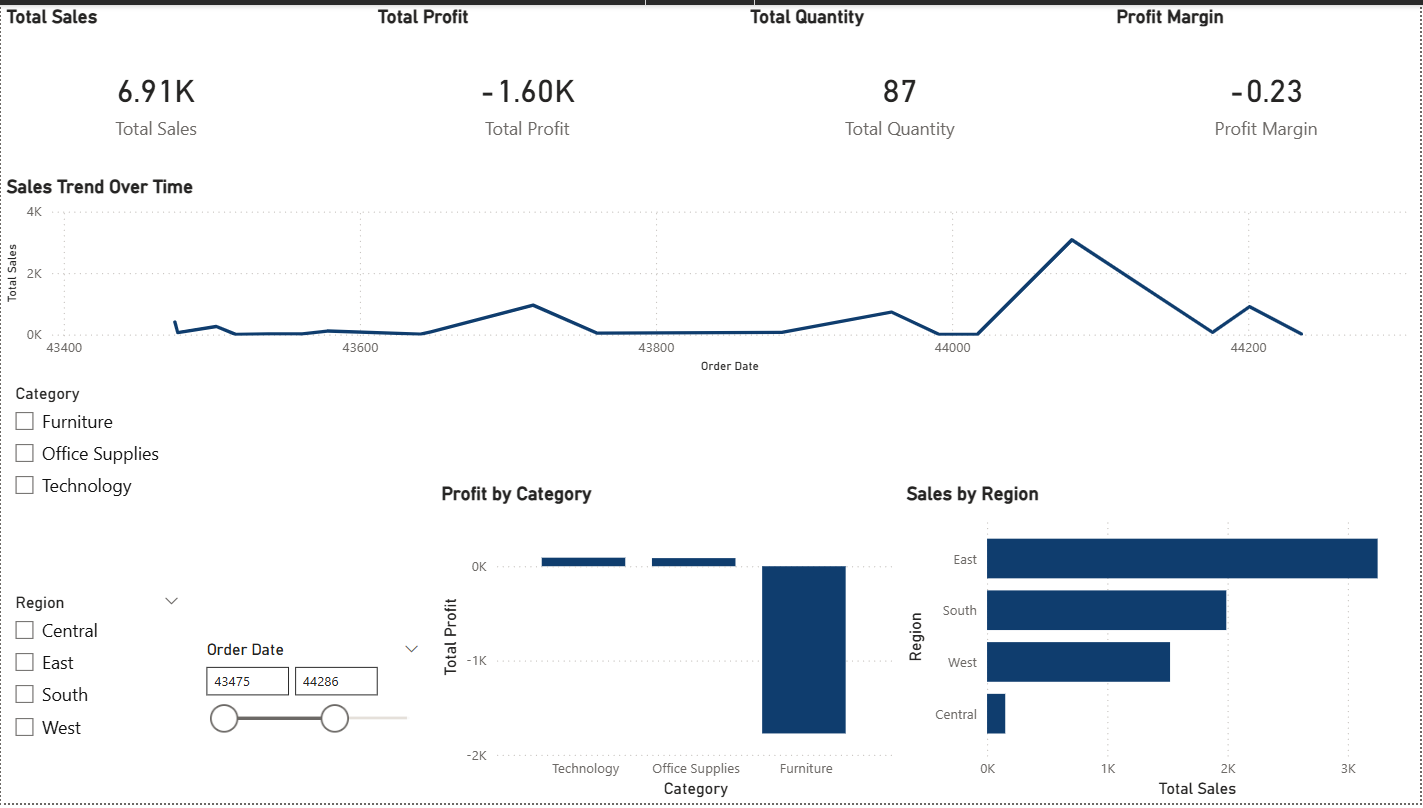

The dashboard page shown, as its layout file describes it:
{"tool":"powerbi","page":{"name":"Page 1","canvas":[1280,720],"ordinal":0},"visuals":[{"type":"card","title":"Total Sales","fields":{"Values":["Sheet1.Total Sales"]},"box":[0,0,279.9,153.7],"z":0},{"type":"card","title":"Total Quantity","fields":{"Values":["Sheet1.Total Quantity"]},"box":[671,0,279.9,153.7],"z":1000},{"type":"card","title":"Total Profit","fields":{"Values":["Sheet1.Total Profit"]},"box":[334.8,0,279.9,153.7],"z":2000},{"type":"card","title":"Profit Margin","fields":{"Values":["Sheet1.Profit Margin"]},"box":[1000.3,0,279.9,153.7],"z":3000},{"type":"lineStackedColumnComboChart","title":"Sales Trend Over Time","fields":{"Category":["Sheet1.Order Date"],"Y2":["Sheet1.Total Sales"]},"box":[0,153.7,1280.3,183.9],"z":4000},{"type":"clusteredColumnChart","title":"Profit by Category","fields":{"Category":["Sheet1.Category"],"Y":["Sheet1.Total Profit"]},"box":[392.5,430.9,418.5,289.5],"z":5000},{"type":"clusteredBarChart","title":"Sales by Region","fields":{"Category":["Sheet1.Region"],"Y":["Sheet1.Total Sales"]},"box":[811,430.9,469.3,289.5],"z":5001},{"type":"slicer","fields":{"Values":["Sheet1.Category"]},"box":[0,337.6,172.9,188],"z":5002},{"type":"slicer","fields":{"Values":["Sheet1.Region"]},"box":[0,525.6,172.9,194.9],"z":5003},{"type":"slicer","fields":{"Values":["Sheet1.Order Date"]},"box":[172.9,568.1,216.8,152.3],"z":5004}]}

Visuals, with their boxes in screenshot pixels (x1, y1, x2, y2), scaled from the page's 1280x720 canvas onto the 1423x808 screenshot:
"Total Sales" card: [left=0, top=0, right=311, bottom=172]
"Total Quantity" card: [left=746, top=0, right=1057, bottom=172]
"Total Profit" card: [left=372, top=0, right=683, bottom=172]
"Profit Margin" card: [left=1112, top=0, right=1422, bottom=172]
"Sales Trend Over Time" lineStackedColumnComboChart: [left=0, top=172, right=1422, bottom=379]
"Profit by Category" clusteredColumnChart: [left=436, top=484, right=902, bottom=807]
"Sales by Region" clusteredBarChart: [left=902, top=484, right=1422, bottom=807]
slicer - Sheet1.Category: [left=0, top=379, right=192, bottom=590]
slicer - Sheet1.Region: [left=0, top=590, right=192, bottom=807]
slicer - Sheet1.Order Date: [left=192, top=638, right=433, bottom=807]
